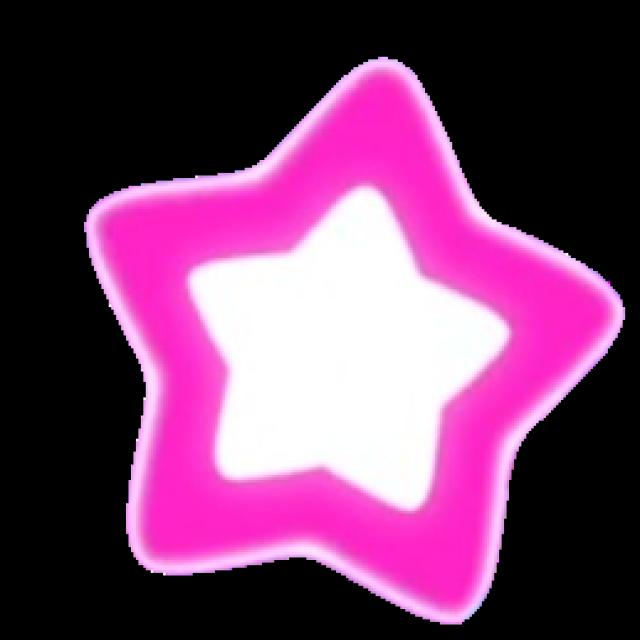Sustained - Star: (82, 54, 625, 627)
